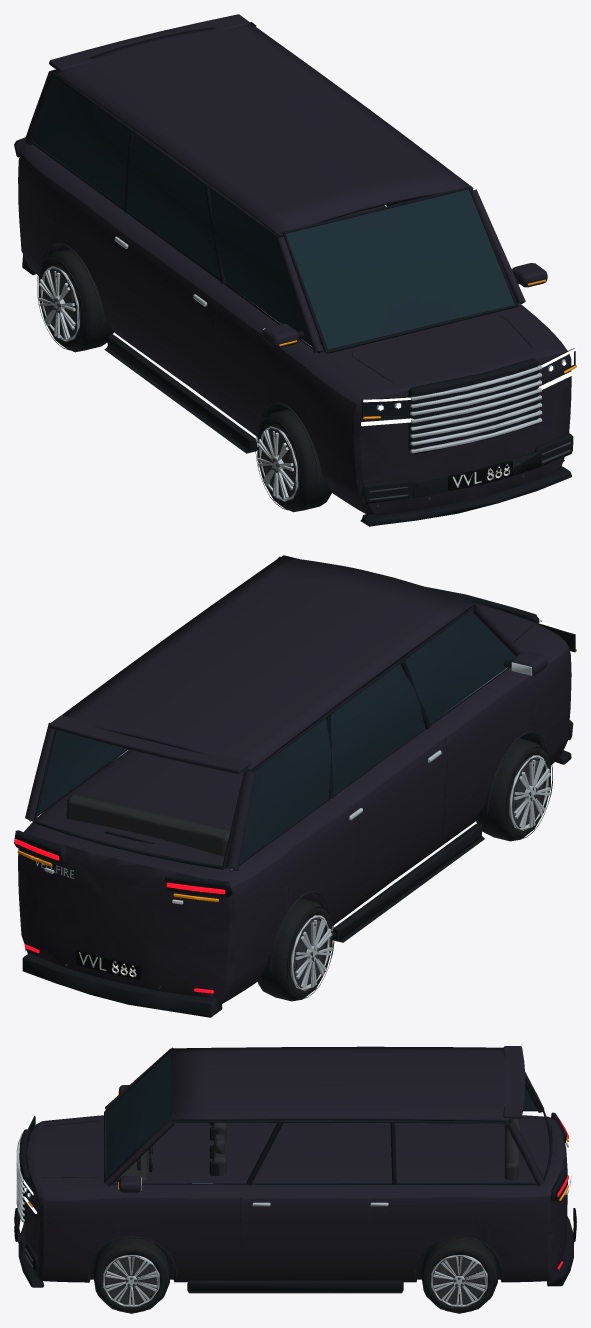
Rendered from vellfire-mid.glb.
3 views of the same model, one above another, from view 1: azimuth 30°, elevation 25°; view 2: azimuth 150°, elevation 25°; view 3: azimuth 270°, elevation 25° (orthographic). The views are drawn at different scales.
Visible parts, largest first — view 1: chassis.001__Automotive clearcoat, chassis.001__Solar glass, chassis.001__Satin black trim, chassis.001__Machined aluminium, wheel_RL.001__Tyre rubber, wheel_FL.001__Tyre rubber, wheel_FL.001__Machined aluminium, wheel_RL.001__Machined aluminium, wheel_RL.001__Graphite alloy, chassis.001__Black registration plate, wheel_FL.001__Graphite alloy, chassis.001__White LED optics; view 2: chassis.001__Automotive clearcoat, chassis.001__Solar glass, chassis.001__Satin black trim, chassis.001__Charcoal upholstery, wheel_RL.001__Tyre rubber, wheel_FL.001__Tyre rubber, wheel_FL.001__Machined aluminium, wheel_RL.001__Machined aluminium, chassis.001__Black registration plate, wheel_RL.001__Graphite alloy, wheel_FL.001__Graphite alloy, chassis.001__Red LED optics (+1 smaller); view 3: chassis.001__Automotive clearcoat, chassis.001__Satin black trim, chassis.001__Solar glass, wheel_FR.001__Tyre rubber, wheel_RR.001__Tyre rubber, chassis.001__Charcoal upholstery, wheel_RR.001__Machined aluminium, wheel_FR.001__Machined aluminium, wheel_RR.001__Graphite alloy, wheel_FR.001__Graphite alloy, chassis.001__Machined aluminium.
Part boxes in pixels (box(x1,y1,x2,y2)): chassis.001__Automotive clearcoat: box(18, 14, 571, 514); chassis.001__Solar glass: box(33, 76, 514, 351); chassis.001__Satin black trim: box(14, 68, 575, 526); chassis.001__Machined aluminium: box(114, 236, 565, 453); wheel_RL.001__Tyre rubber: box(37, 249, 113, 352); wheel_FL.001__Tyre rubber: box(255, 409, 331, 512); wheel_FL.001__Machined aluminium: box(257, 426, 298, 501); wheel_RL.001__Machined aluminium: box(38, 266, 79, 341); wheel_RL.001__Graphite alloy: box(46, 268, 81, 337); chassis.001__Black registration plate: box(448, 460, 512, 490); wheel_FL.001__Graphite alloy: box(264, 428, 299, 497); chassis.001__White LED optics: box(361, 348, 576, 426); chassis.001__Automotive clearcoat: box(18, 556, 571, 1004); chassis.001__Solar glass: box(38, 609, 515, 861); chassis.001__Satin black trim: box(14, 555, 575, 1017); chassis.001__Charcoal upholstery: box(66, 670, 385, 856); wheel_RL.001__Tyre rubber: box(258, 898, 334, 1001); wheel_FL.001__Tyre rubber: box(476, 738, 552, 841); wheel_FL.001__Machined aluminium: box(509, 755, 550, 830); wheel_RL.001__Machined aluminium: box(291, 915, 332, 990); chassis.001__Black registration plate: box(76, 949, 141, 980); wheel_RL.001__Graphite alloy: box(290, 917, 324, 986); wheel_FL.001__Graphite alloy: box(508, 757, 543, 826); chassis.001__Red LED optics: box(14, 839, 225, 993); chassis.001__Automotive clearcoat: box(23, 1046, 567, 1282); chassis.001__Satin black trim: box(17, 1047, 573, 1293); chassis.001__Solar glass: box(106, 1051, 536, 1178); wheel_FR.001__Tyre rubber: box(92, 1237, 170, 1313); wheel_RR.001__Tyre rubber: box(420, 1237, 498, 1313); chassis.001__Charcoal upholstery: box(116, 1118, 520, 1181); wheel_RR.001__Machined aluminium: box(431, 1255, 487, 1306); wheel_FR.001__Machined aluminium: box(103, 1255, 159, 1306); wheel_RR.001__Graphite alloy: box(433, 1256, 485, 1303); wheel_FR.001__Graphite alloy: box(105, 1256, 157, 1303); chassis.001__Machined aluminium: box(16, 1133, 571, 1221).
Bounding box in the file's own units: 2.17 × 1.95 × 5.15.
